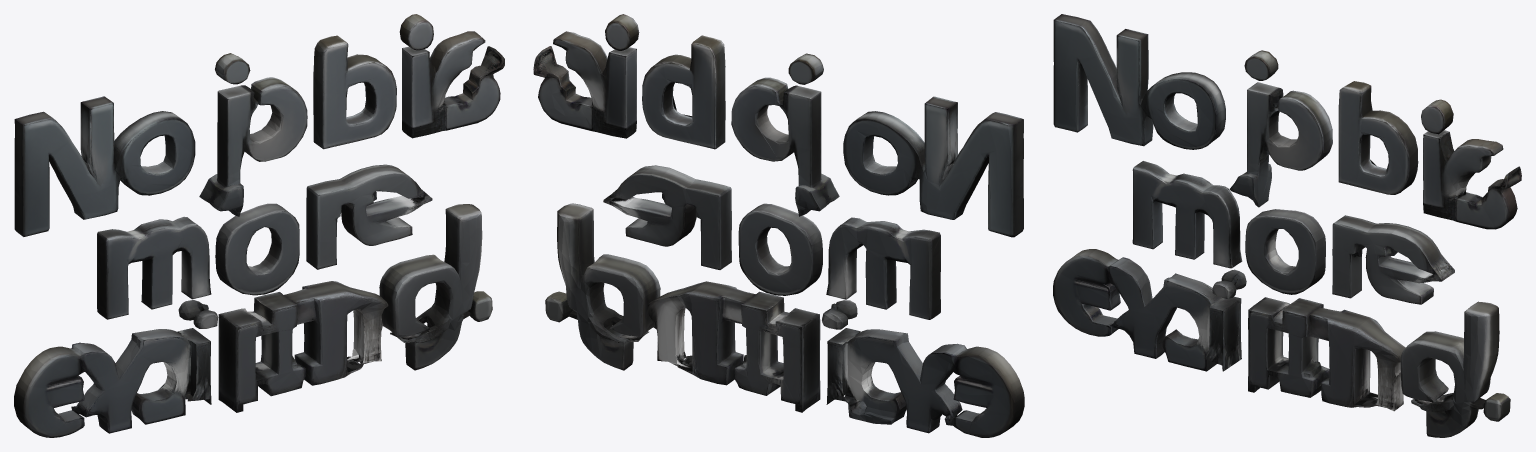
3 renders of one model, left to right at view 1: azimuth 30°, elevation 25°; view 2: azimuth 150°, elevation 25°; view 3: azimuth 330°, elevation 25°, orthographic. The views are drawn at different scales.
Parts seen in each view (by area): view 1: world; view 2: world; view 3: world.
Boxes of the visible parts, x1,y1,x2,y2 form: world: (14, 14, 504, 437); world: (533, 14, 1024, 437); world: (1053, 14, 1521, 437).
Bounding box in the file's own units: 1 × 0.709 × 0.0778.
1 material, 1 textured.
